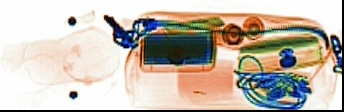powerbank: (135, 28, 217, 72)
